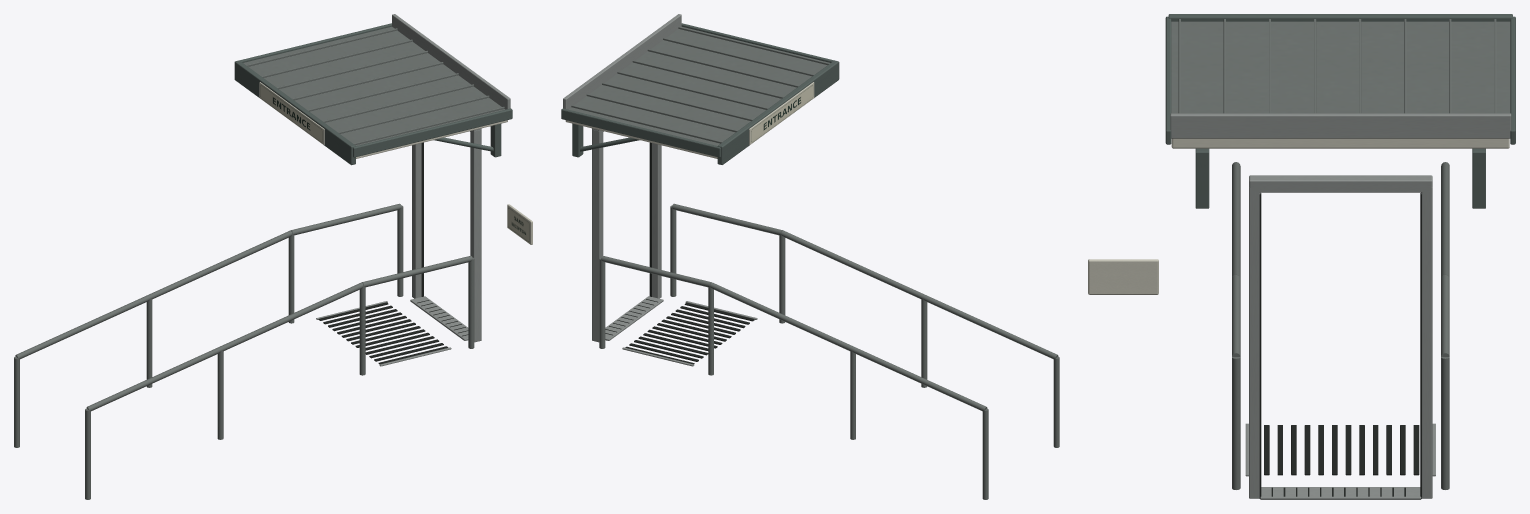
Rendered from SM_Arrival_Entrance_LOD1.fbx.
3 renders of one model, left to right at view 1: azimuth 30°, elevation 25°; view 2: azimuth 150°, elevation 25°; view 3: azimuth 270°, elevation 25°, orthographic. The views are drawn at different scales.
Parts seen in each view (by area): view 1: SM_Arrival_Entrance_LOD1; view 2: SM_Arrival_Entrance_LOD1; view 3: SM_Arrival_Entrance_LOD1.
Boxes of the visible parts, box(x1,y1,x2,y2) form: SM_Arrival_Entrance_LOD1: box(14, 14, 532, 499); SM_Arrival_Entrance_LOD1: box(561, 14, 1059, 499); SM_Arrival_Entrance_LOD1: box(1088, 14, 1515, 499).
Size of the model in its own units: 4.26 by 2.66 by 3.22.
